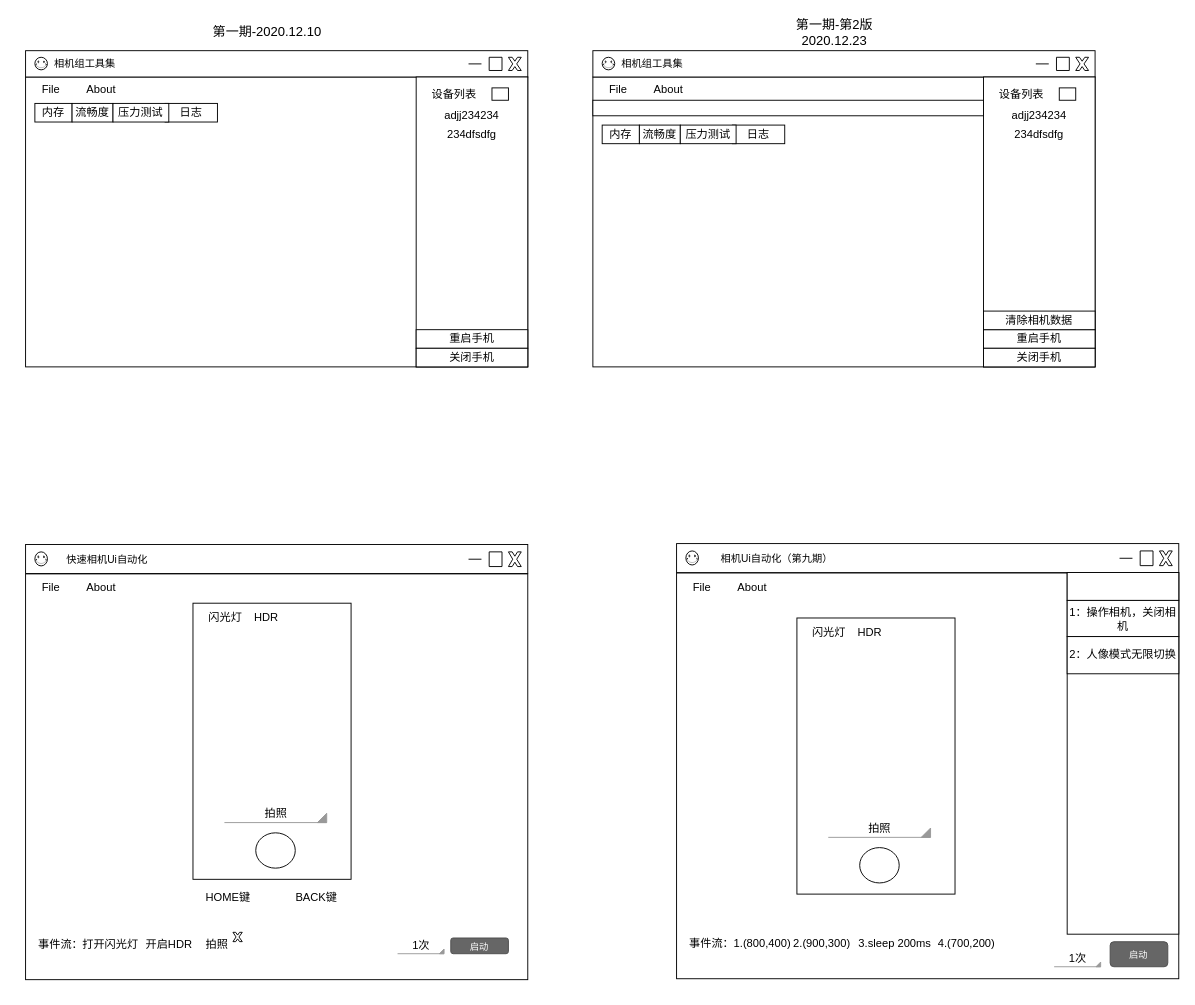
Image size: 1195x1005. Some labels were removed from this diagram. Here are the shapes that lost their labels. From the top down, the centre of each, then its label:
At point 787,107: "Tips：获取日志成功".
At point 1122,586: "用例列表".
